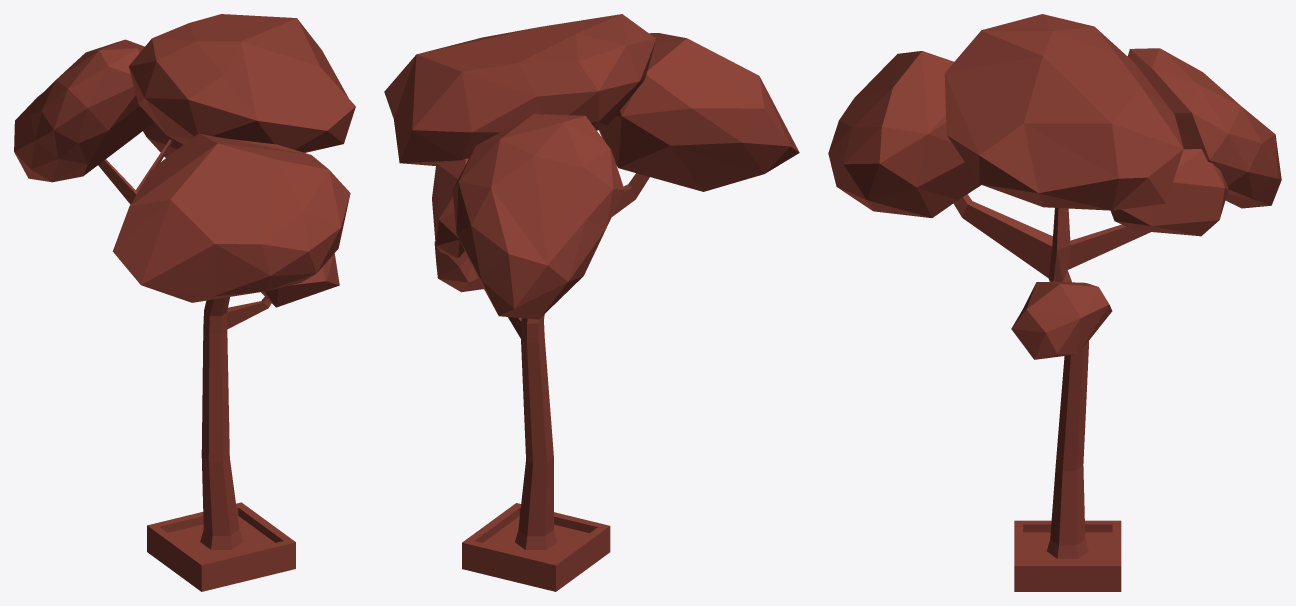
The model's file is Tree01.fbx.
3 renders of one model, left to right at view 1: azimuth 30°, elevation 25°; view 2: azimuth 150°, elevation 25°; view 3: azimuth 270°, elevation 25°, orthographic.
Parts seen in each view (by area): view 1: Tree01; view 2: Tree01; view 3: Tree01.
Boxes of the visible parts, bbox=[...] form: Tree01: bbox=[14, 14, 355, 591]; Tree01: bbox=[384, 14, 799, 591]; Tree01: bbox=[828, 14, 1281, 591].
Size of the model in its own units: 327 by 539 by 424.
